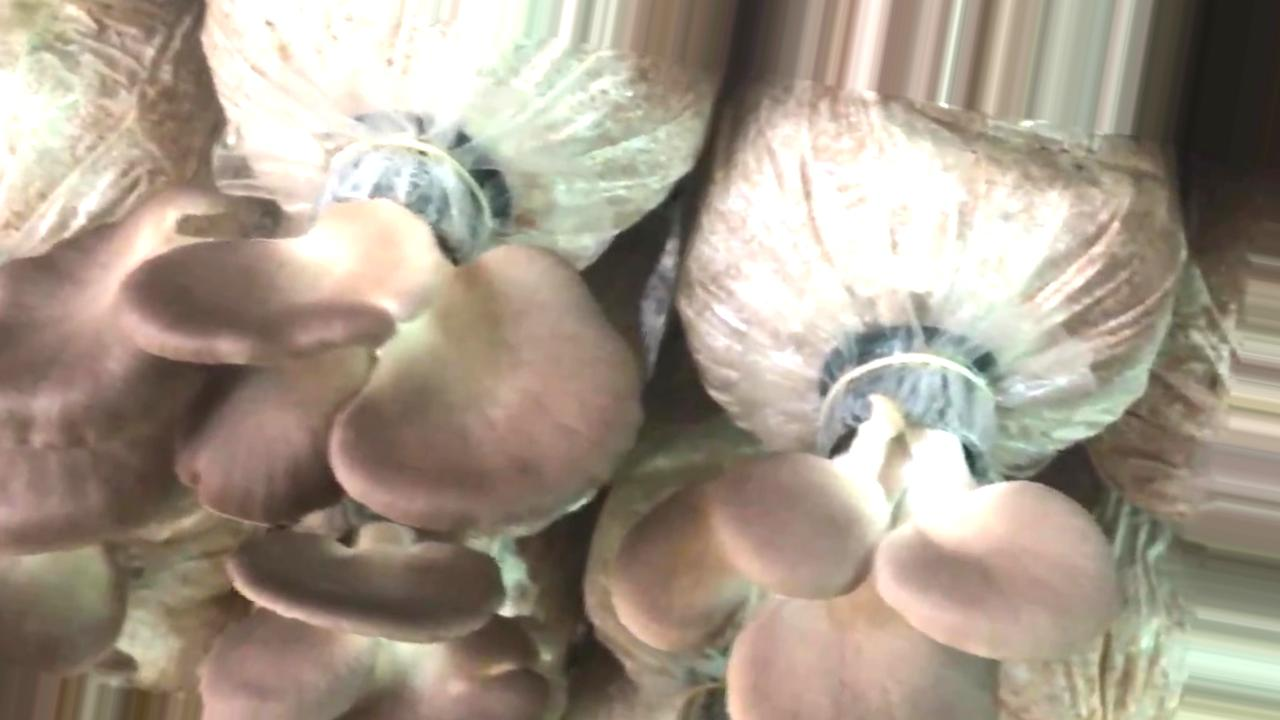nam: (121, 141, 638, 645), (613, 355, 1117, 720), (1, 189, 272, 551), (200, 609, 548, 720), (1, 531, 126, 681)
